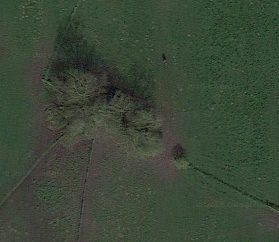tree: (171, 153, 192, 177)
